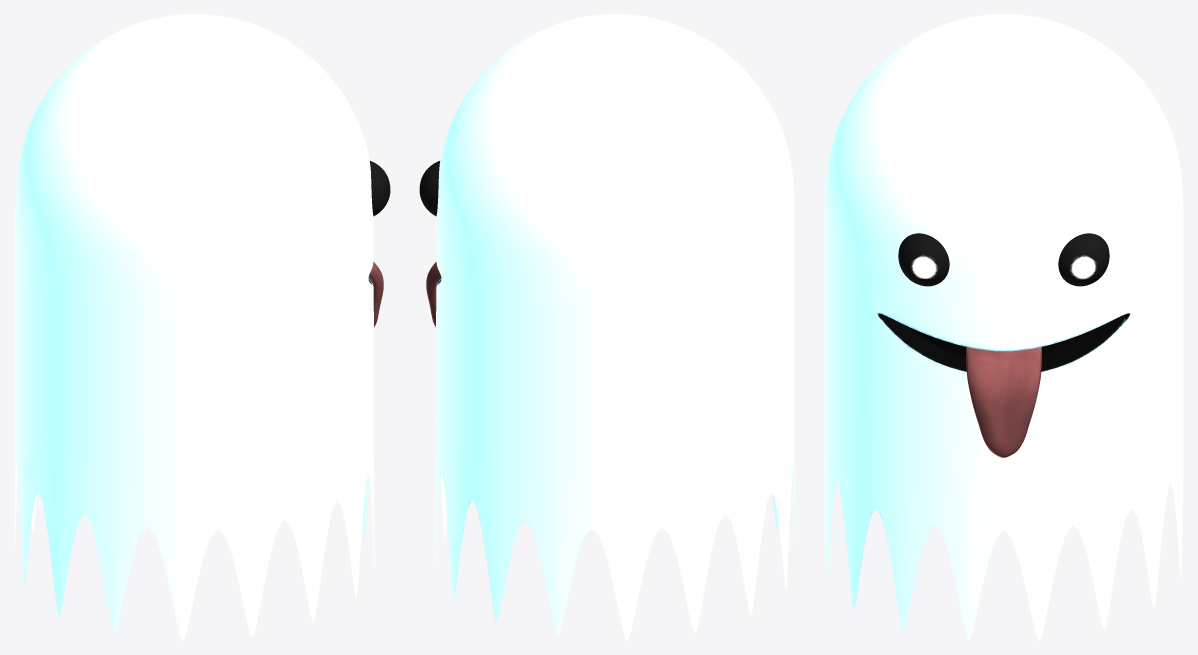
File: chal_5.glb
3 views of the same model, side by side, from view 1: azimuth 30°, elevation 25°; view 2: azimuth 150°, elevation 25°; view 3: azimuth 270°, elevation 25° (orthographic).
Visible parts, largest first — view 1: Ghost_0; view 2: Ghost_0; view 3: Ghost_0.
Part boxes in pixels (x1,y1,x2,y2): Ghost_0: (14, 14, 390, 640); Ghost_0: (419, 14, 795, 640); Ghost_0: (824, 14, 1183, 640).
Size of the model in its own units: 2.13 by 3.27 by 1.99.
1 material, 1 textured.
